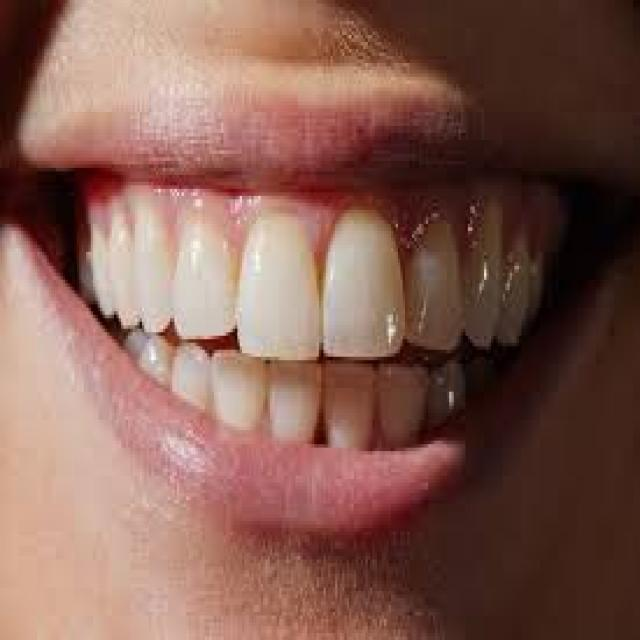tooth: (321, 192, 414, 368), (235, 192, 324, 364), (172, 206, 233, 340), (405, 206, 461, 350), (503, 227, 556, 343), (128, 189, 168, 329), (76, 227, 132, 322), (324, 364, 377, 462), (470, 206, 503, 346), (379, 360, 426, 448), (224, 350, 272, 430), (272, 364, 321, 441), (177, 342, 209, 406), (433, 367, 468, 423), (128, 332, 170, 378)
